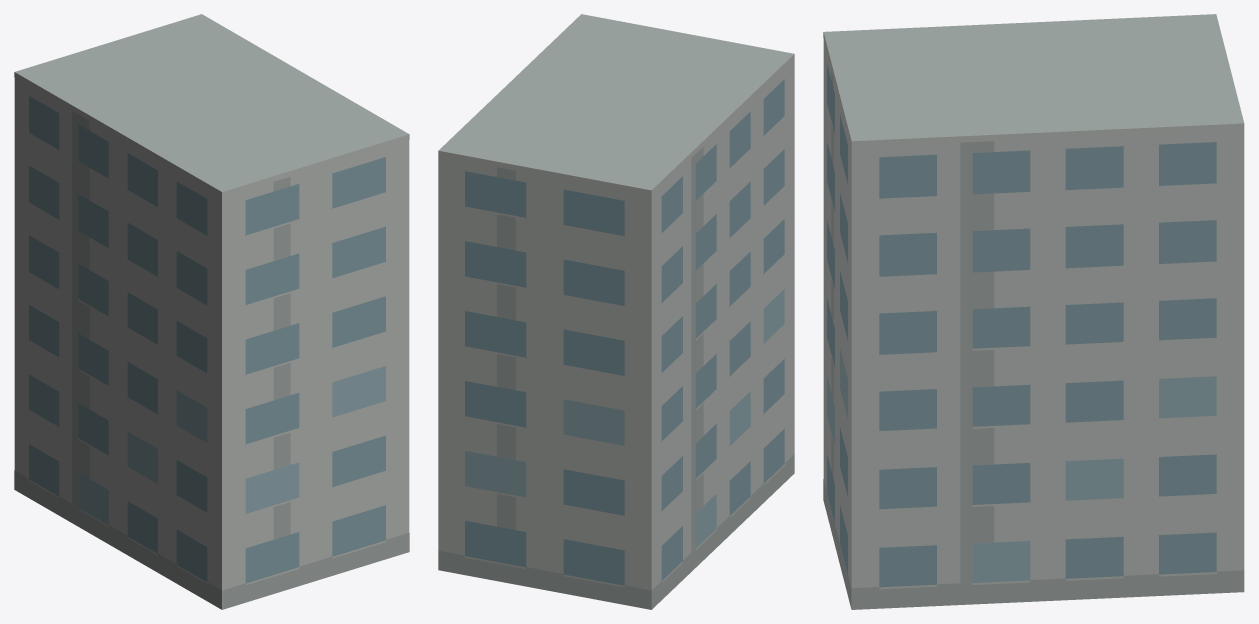
File: survey-upis-32917997.glb
3 renders of one model, left to right at view 1: azimuth 30°, elevation 25°; view 2: azimuth 150°, elevation 25°; view 3: azimuth 270°, elevation 25°, orthographic. The views are drawn at different scales.
Parts seen in each view (by area): view 1: survey-upis-32917997.tmp; view 2: survey-upis-32917997.tmp; view 3: survey-upis-32917997.tmp.
Boxes of the visible parts, x1,y1,x2,y2 form: survey-upis-32917997.tmp: (14,14,409,609); survey-upis-32917997.tmp: (438,14,794,609); survey-upis-32917997.tmp: (823,14,1244,609).
Bounding box in the file's own units: 10.64 × 18.25 × 14.86.
